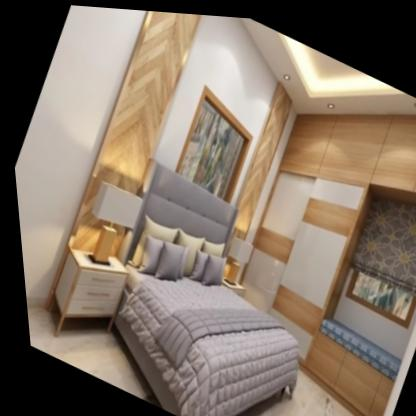Bed: (68, 164, 345, 416)
Lamp: (63, 168, 150, 275), (208, 223, 259, 289)
Nightstand: (29, 238, 131, 358)
